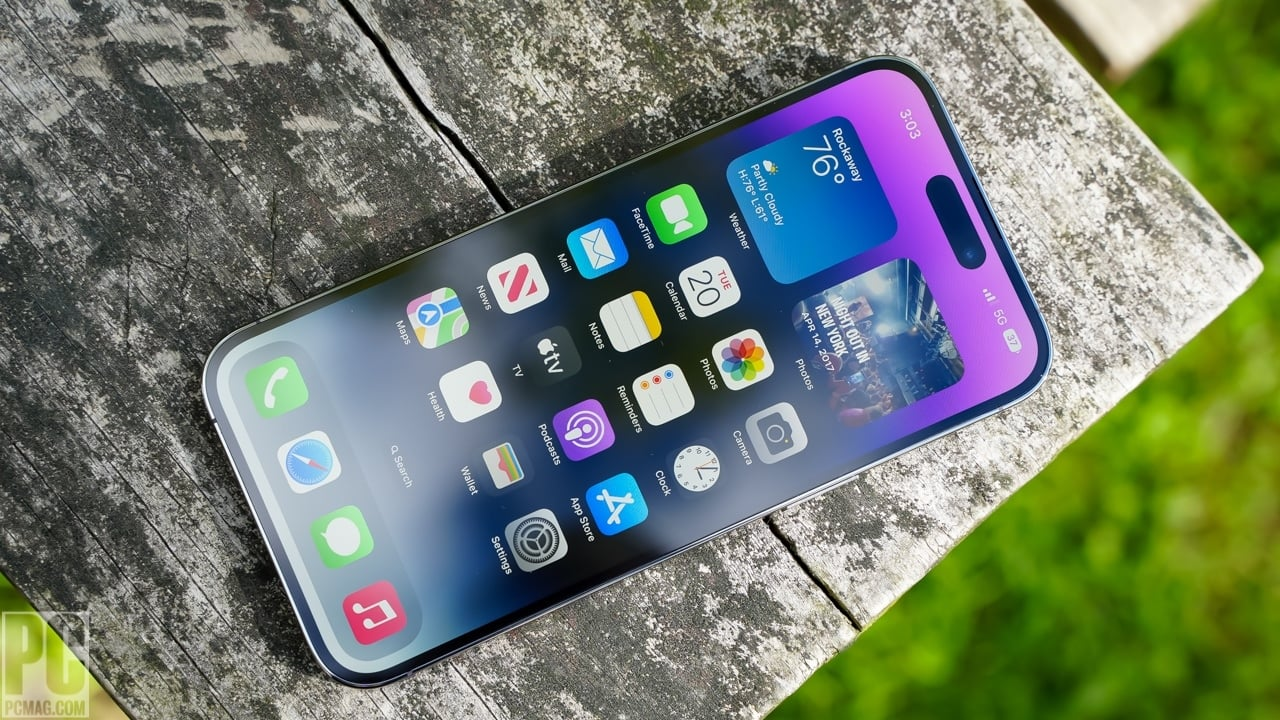phone: (184, 53, 1041, 682)
